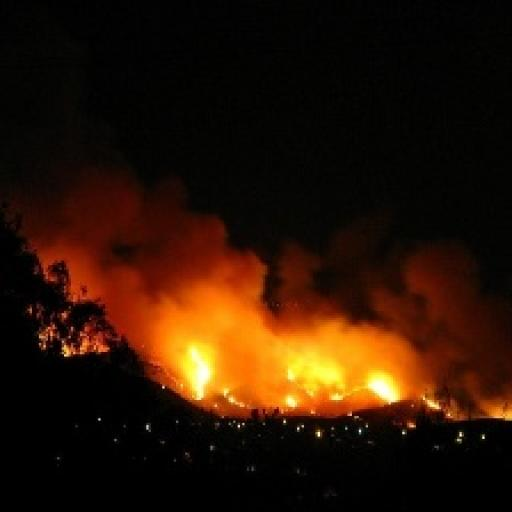fire and smoke: (19, 167, 511, 415)
